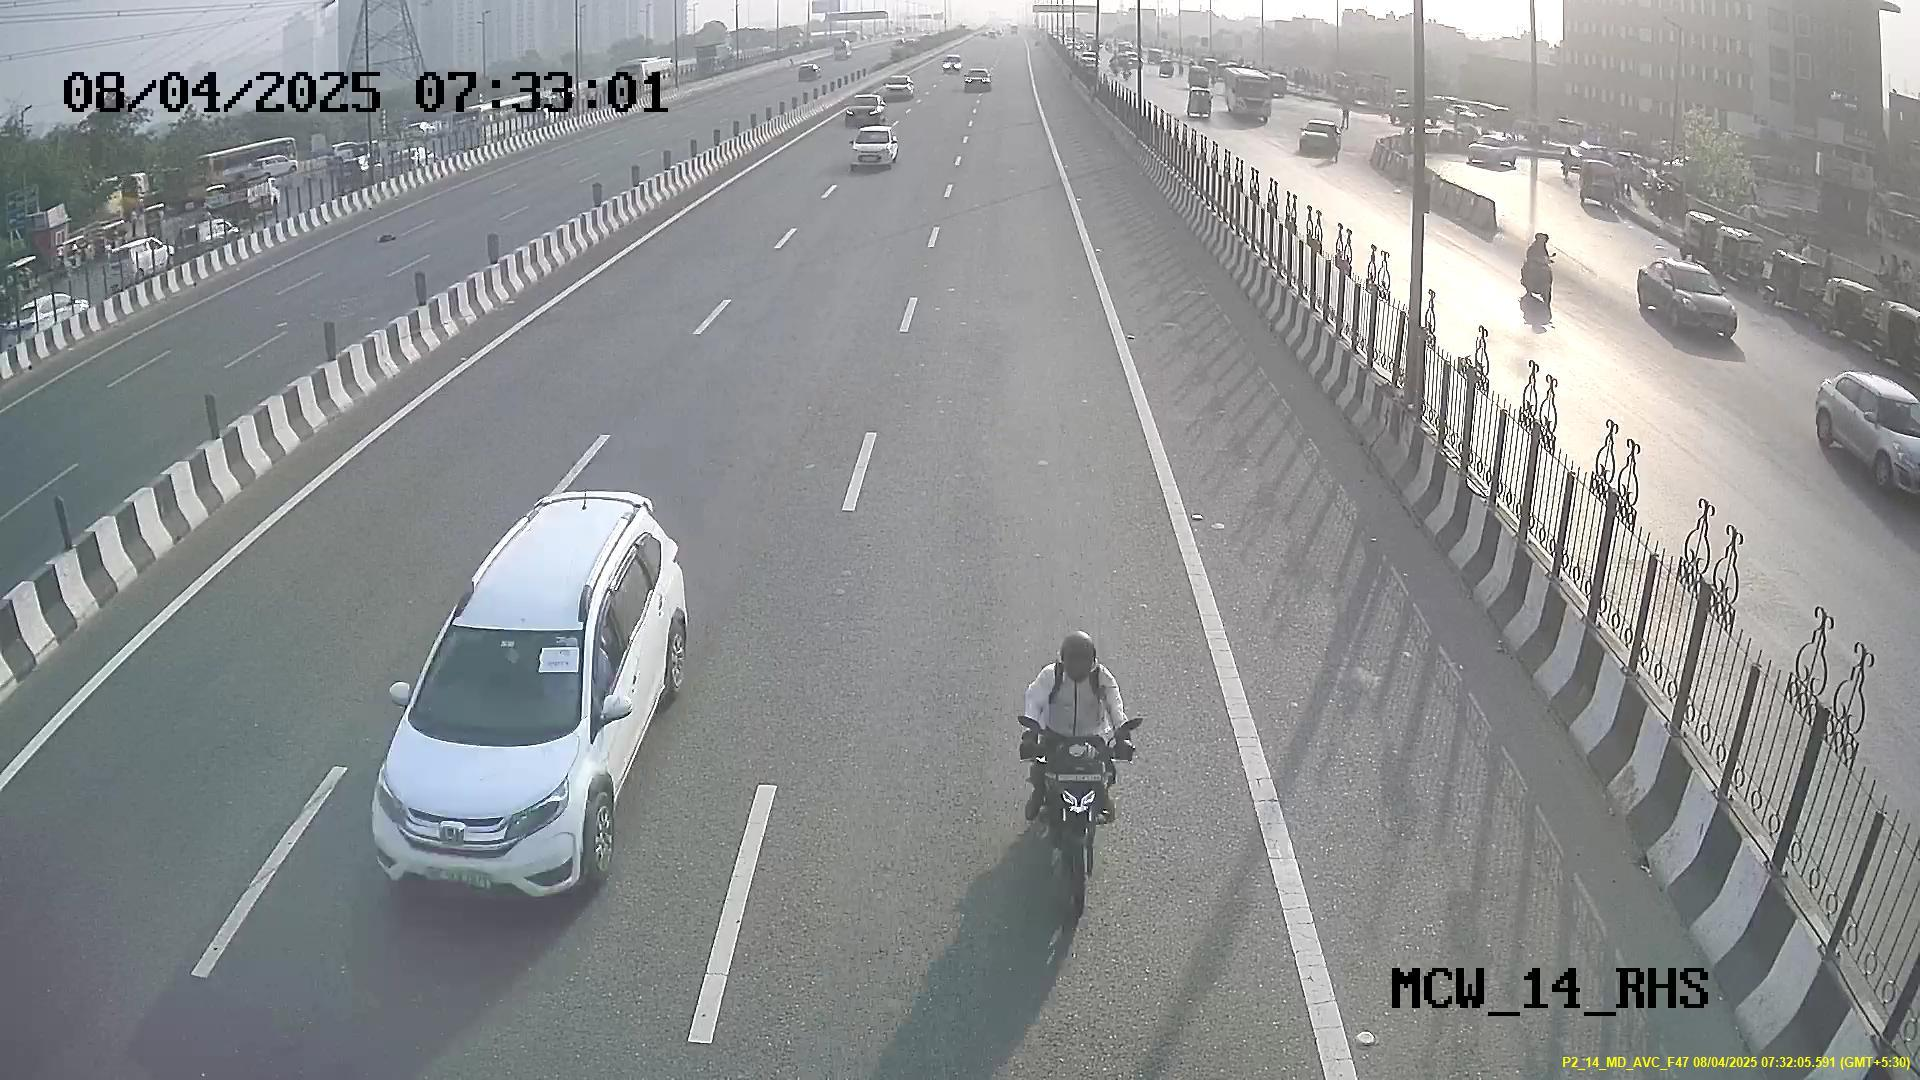bike: (1021, 621, 1143, 919)
car: (368, 571, 650, 909)
